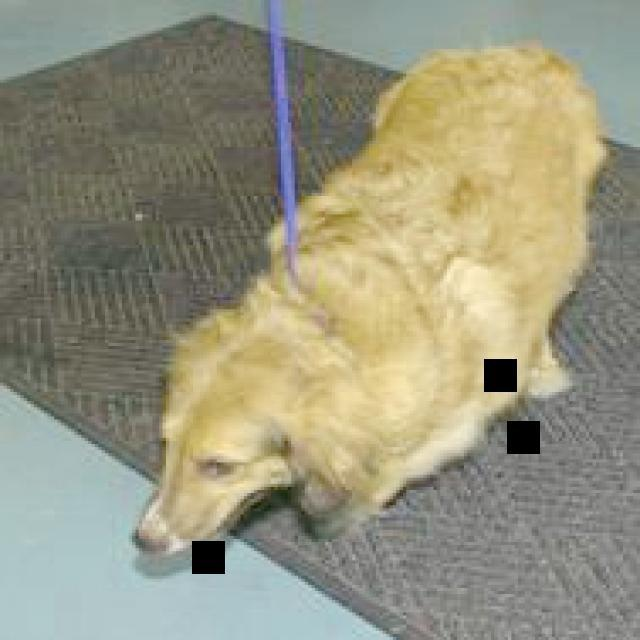adult_dog: (129, 47, 617, 560)
